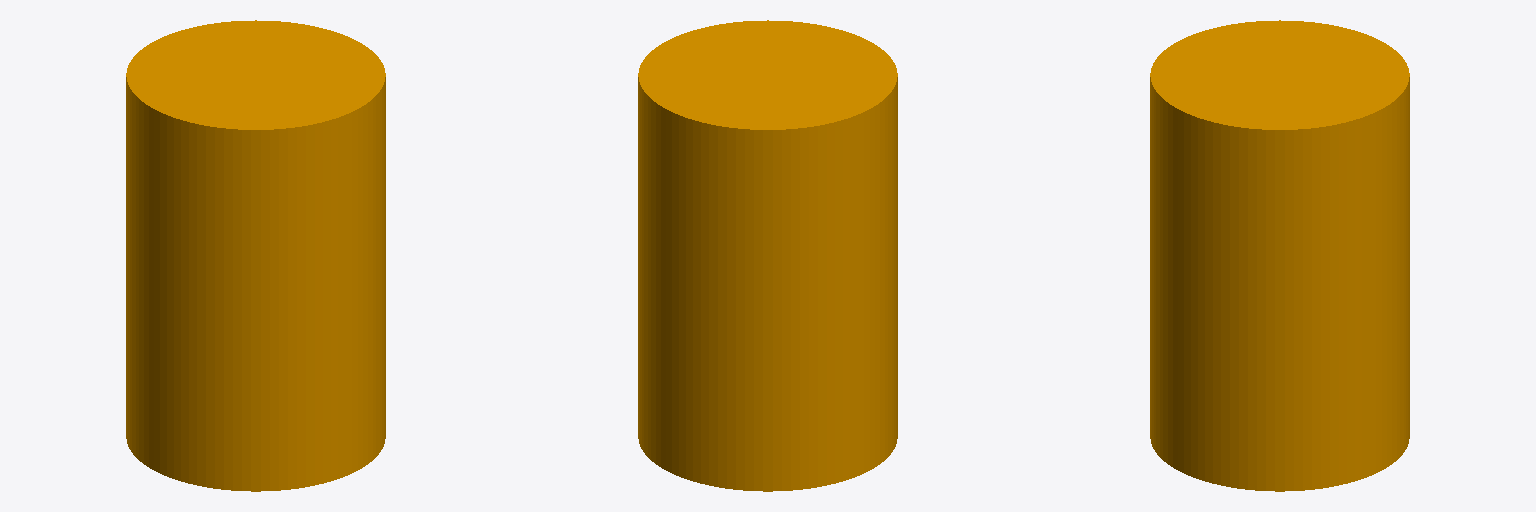
robot.urdf — industreal_round_peg_61mm:
<?xml version="1.0"?>
<robot name="industreal_round_peg_61mm">
    <link name="industreal_round_peg_61mm">
        <visual>
            <geometry>
                <mesh filename="../mesh/industreal_pegs/2in_v1Hard_3.obj"/>
            </geometry>
        </visual>
        <collision>
            <geometry>
                <mesh filename="../mesh/industreal_pegs/2in_v1Hard_3.obj"/>
            </geometry>
            <sdf resolution="256"/>
        </collision>
    </link>
</robot>

--- Facts derived from the render (not from the file) ---
3 views of the same robot in one strip: view 1: azimuth 30°, elevation 25°; view 2: azimuth 150°, elevation 25°; view 3: azimuth 270°, elevation 25° (orthographic).
Model industreal_round_peg_61mm with 1 links and 0 joints (none), rooted at industreal_round_peg_61mm, posed all joints at 0.
Visible links, largest first — view 1: industreal_round_peg_61mm; view 2: industreal_round_peg_61mm; view 3: industreal_round_peg_61mm.
Boxes of the visible links, bbox=[...] form: industreal_round_peg_61mm: bbox=[126, 20, 385, 491]; industreal_round_peg_61mm: bbox=[638, 20, 897, 491]; industreal_round_peg_61mm: bbox=[1150, 20, 1409, 491].
Size in the robot's own frame: 0.0495 by 0.0495 by 0.0762 metres.
Meshes: 1 distinct files referenced, 1 mesh visuals loaded (1 OBJ).
